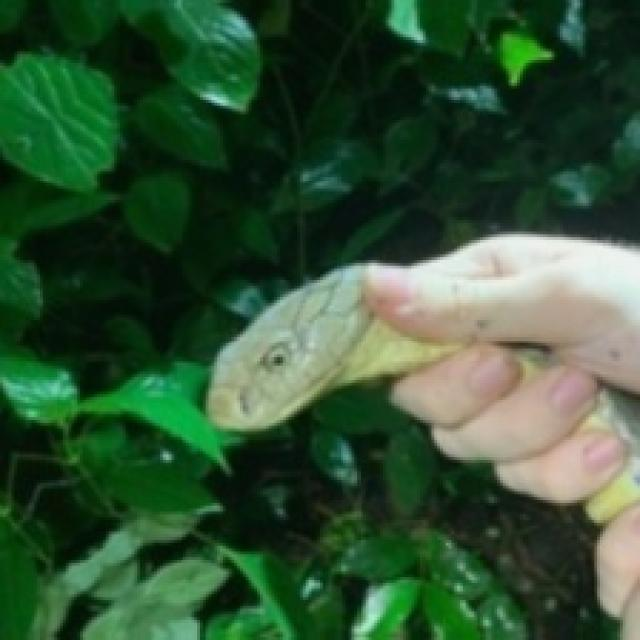king cobra: (206, 234, 637, 637)
